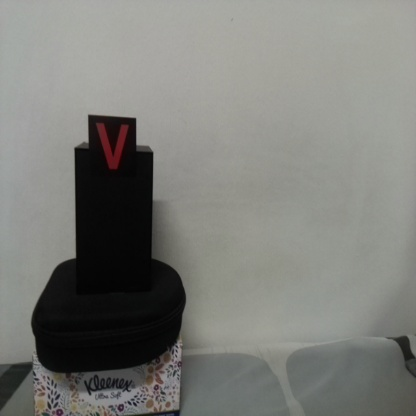id_11: (89, 115, 136, 183)
